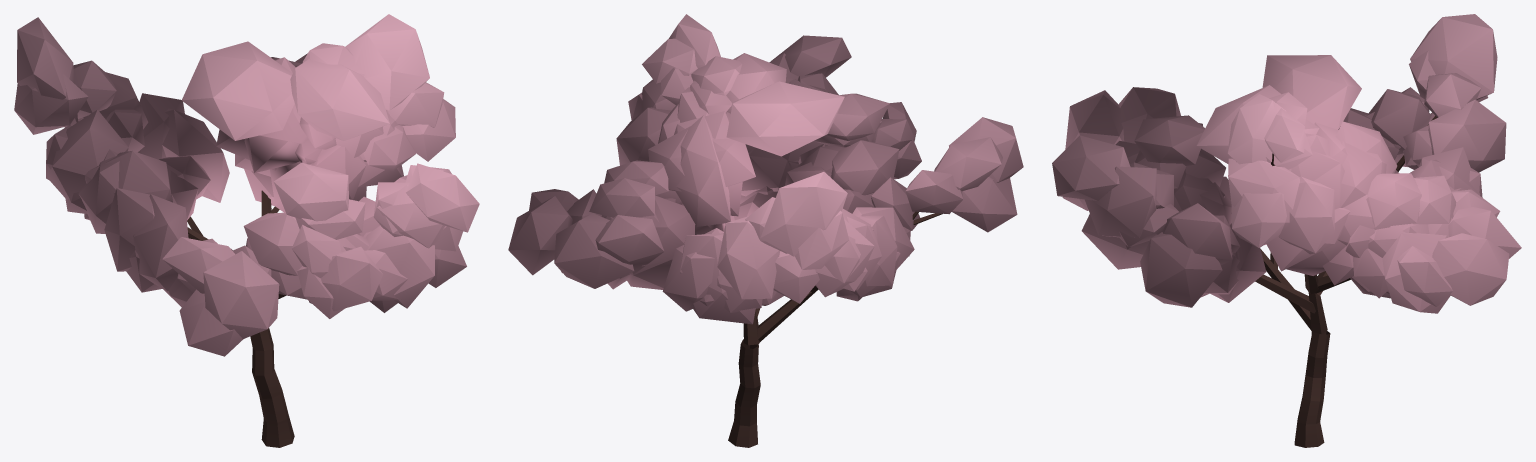
Rendered from tree_cherry.glb.
The picture shows the model from 3 angles, left to right: view 1: azimuth 30°, elevation 25°; view 2: azimuth 150°, elevation 25°; view 3: azimuth 270°, elevation 25°; orthographic projection. The views are drawn at different scales.
Parts seen in each view (by area): view 1: tree_cherry; view 2: tree_cherry; view 3: tree_cherry.
Boxes of the visible parts, x1,y1,x2,y2 form: tree_cherry: [14, 14, 479, 447]; tree_cherry: [508, 14, 1023, 447]; tree_cherry: [1052, 14, 1521, 447].
Bounding box in the file's own units: 5.66 × 6.13 × 6.79.
